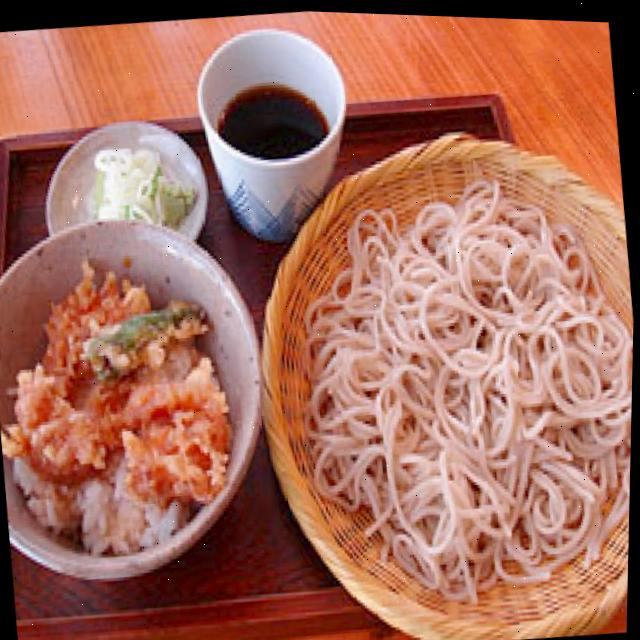面条主食: (226, 92, 639, 640)
